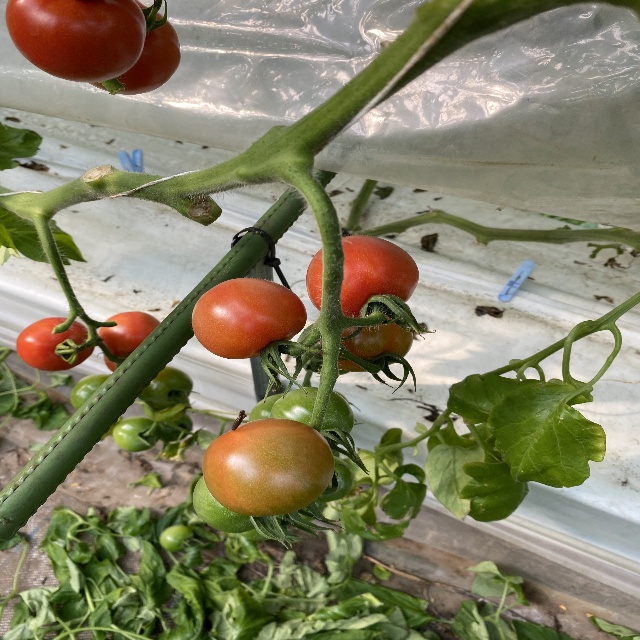l_fully_ripened: (5, 0, 148, 83), (306, 236, 420, 320), (191, 278, 306, 360), (87, 0, 181, 95), (17, 317, 95, 372), (99, 311, 162, 357)
l_green: (270, 387, 354, 448), (193, 473, 275, 534), (138, 367, 195, 408), (313, 454, 353, 504), (113, 415, 160, 451), (70, 373, 111, 412)
l_half_ripened: (203, 418, 335, 518), (321, 313, 415, 372)
